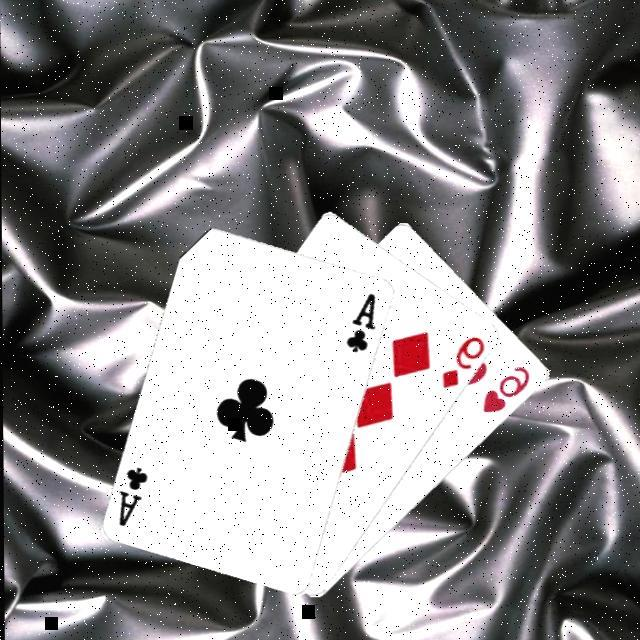6H: (478, 364, 532, 418)
9D: (437, 334, 487, 393)
AC: (342, 292, 378, 358), (114, 465, 150, 531)
